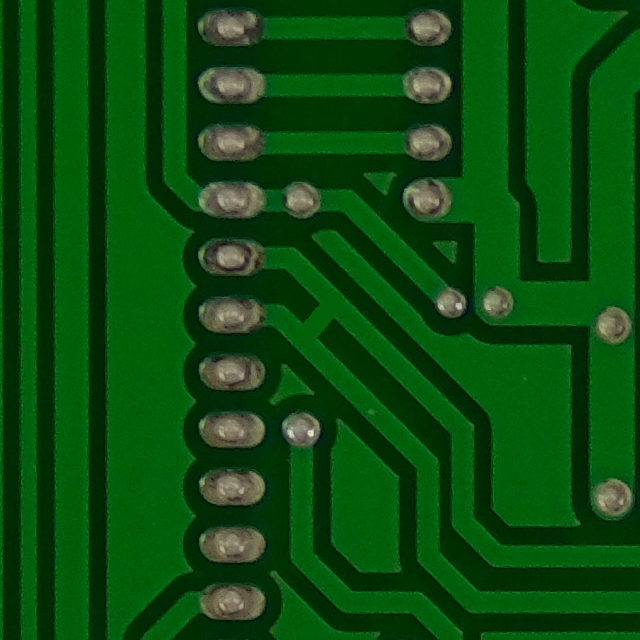short: (283, 280, 357, 361)
